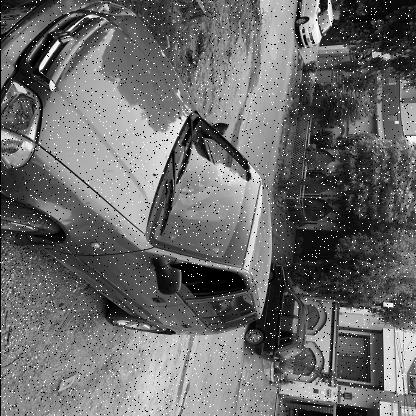no_seatbelt: (183, 182, 244, 209)
